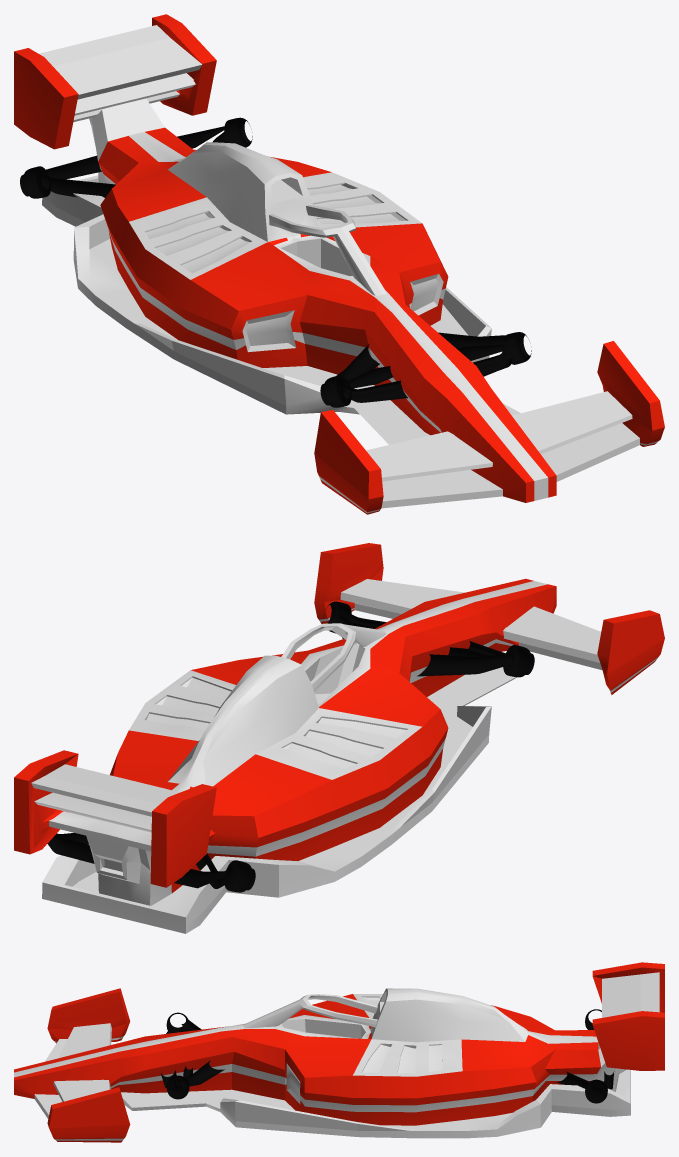
The model's file is Body.fbx.
3 views of the same model, one above another, from view 1: azimuth 30°, elevation 25°; view 2: azimuth 150°, elevation 25°; view 3: azimuth 270°, elevation 25° (orthographic). The views are drawn at different scales.
Visible parts, largest first — view 1: Body; view 2: Body; view 3: Body.
Boxes of the visible parts, <box> form: Body: <box>14,14,664,514</box>; Body: <box>14,543,664,933</box>; Body: <box>14,962,664,1142</box>.
Bounding box in the file's own units: 239 × 109 × 630.
